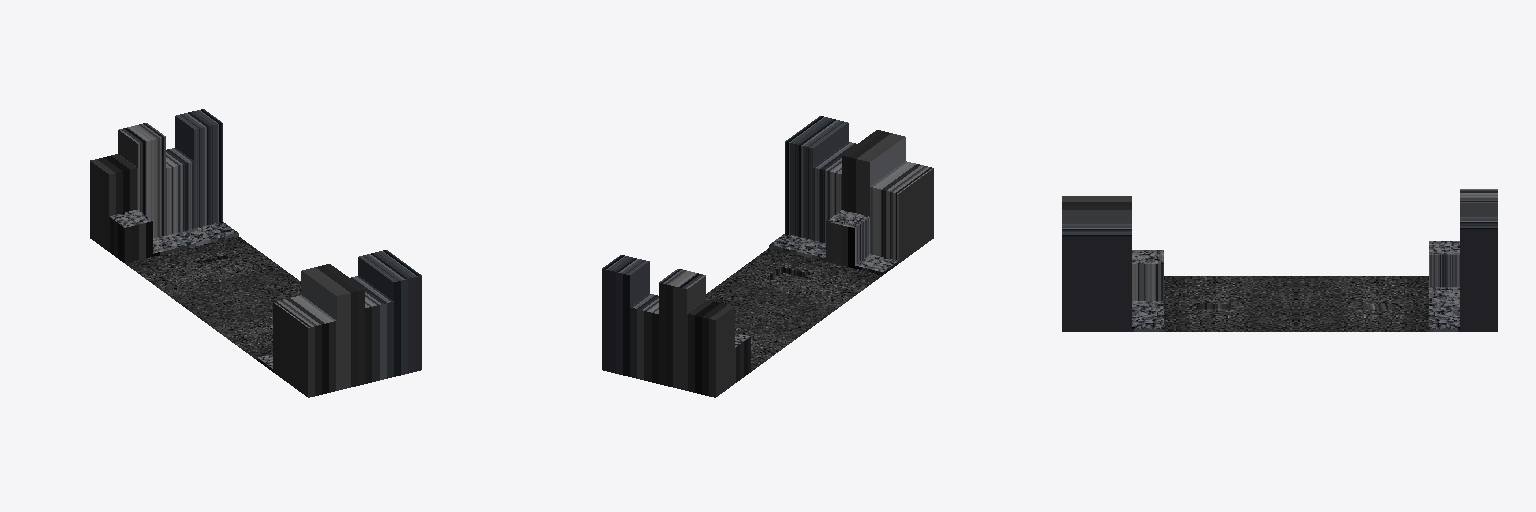
3 views of the same model, side by side, from view 1: azimuth 30°, elevation 25°; view 2: azimuth 150°, elevation 25°; view 3: azimuth 270°, elevation 25° (orthographic).
Visible parts, largest first — view 1: Plane; view 2: Plane; view 3: Plane.
Part boxes in pixels (x1,y1,x2,y2): Plane: (90,109,421,397); Plane: (602,116,933,397); Plane: (1062,189,1497,331).
Bounding box in the file's own units: 4.01 × 3.61 × 13.35.
1 materials, 1 textured.